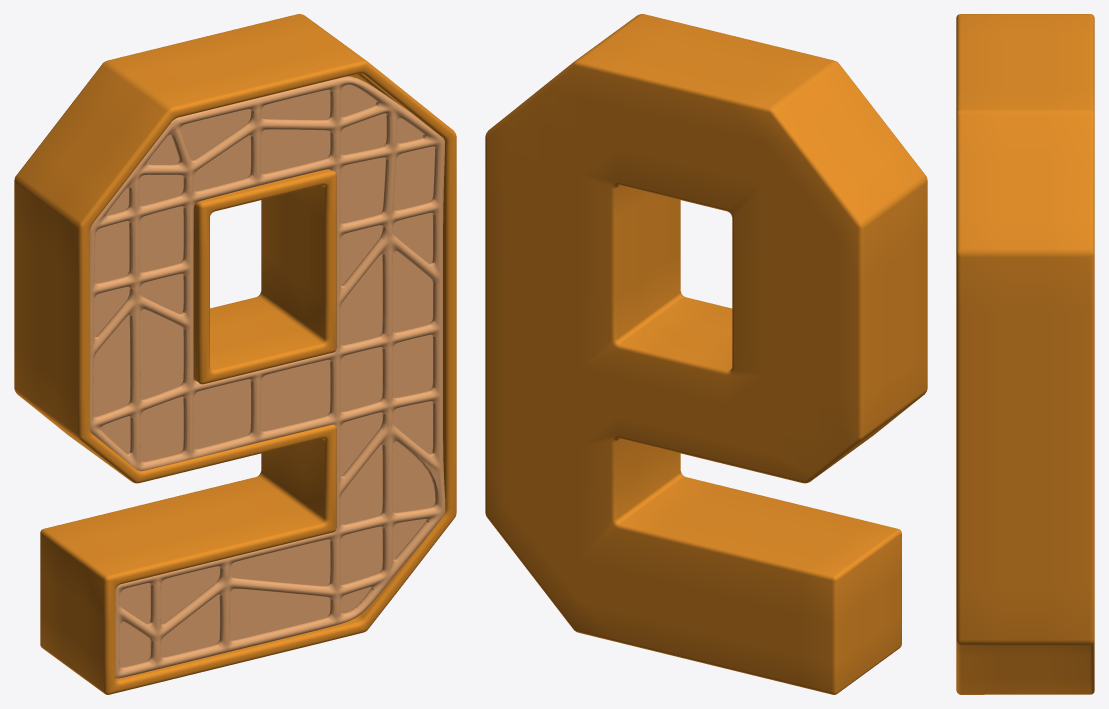
The picture shows the model from 3 angles, left to right: view 1: azimuth 30°, elevation 25°; view 2: azimuth 150°, elevation 25°; view 3: azimuth 270°, elevation 25°; orthographic projection. The views are drawn at different scales.
Parts seen in each view (by area): view 1: Text.036, Plane.044, Plane.078; view 2: Text.036; view 3: Text.036.
Part boxes in pixels (x1,y1,x2,y2): Text.036: [14, 14, 456, 694]; Plane.044: [93, 84, 435, 667]; Plane.078: [89, 76, 445, 678]; Text.036: [485, 14, 927, 694]; Text.036: [956, 14, 1094, 694].
Bounding box in the file's own units: 2.26 × 3.27 × 0.7009.
